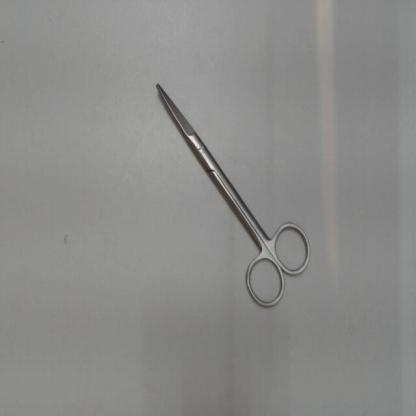Curved Mayo Scissors: (151, 76, 316, 317)
